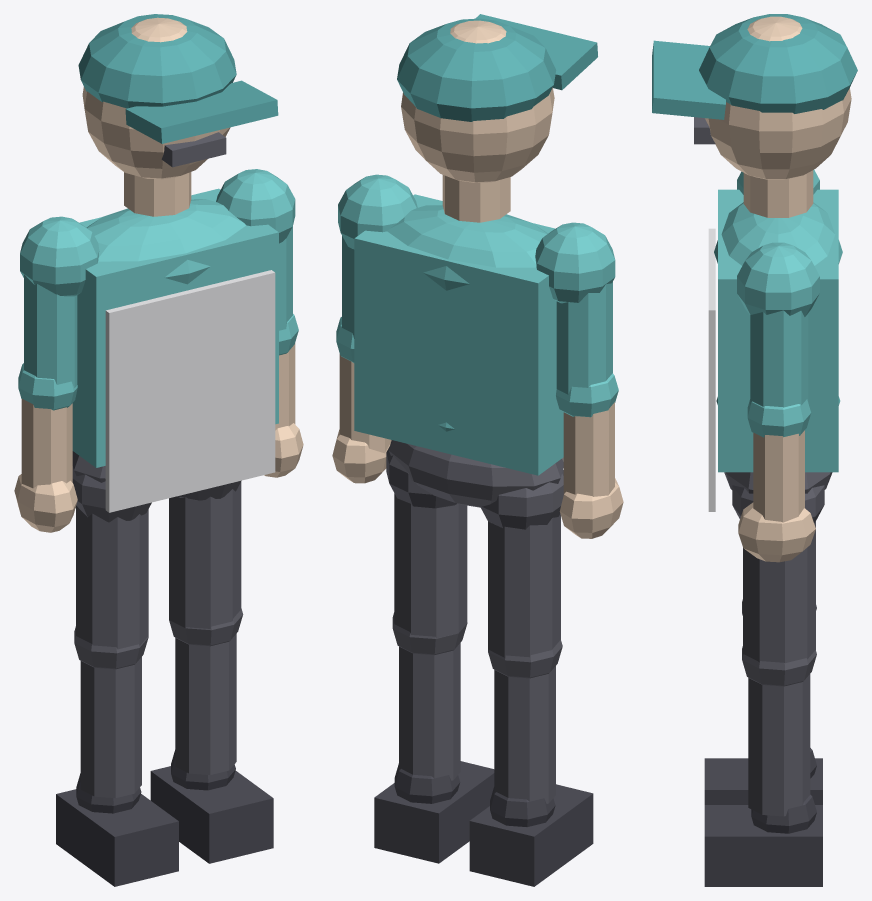
The model's file is vendor.glb.
3 views of the same model, side by side, from view 1: azimuth 30°, elevation 25°; view 2: azimuth 150°, elevation 25°; view 3: azimuth 270°, elevation 25° (orthographic).
Visible parts, largest first — view 1: vendor; view 2: vendor; view 3: vendor.
Boxes of the visible parts, left/top/right/bottom form: vendor: left=14, top=14, right=303, bottom=886; vendor: left=332, top=14, right=623, bottom=886; vendor: left=652, top=14, right=857, bottom=886.
Size of the model in its own units: 0.6645 by 1.88 by 0.4261.
